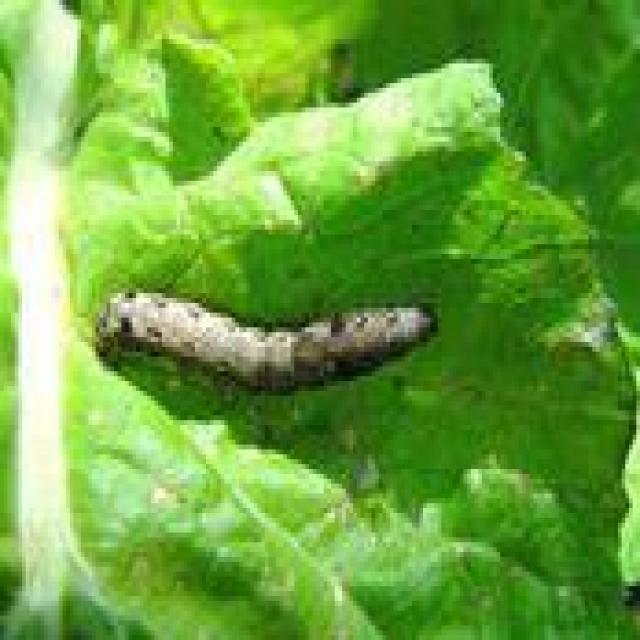BeetArmyWorm-Larva-: (87, 272, 440, 398)
